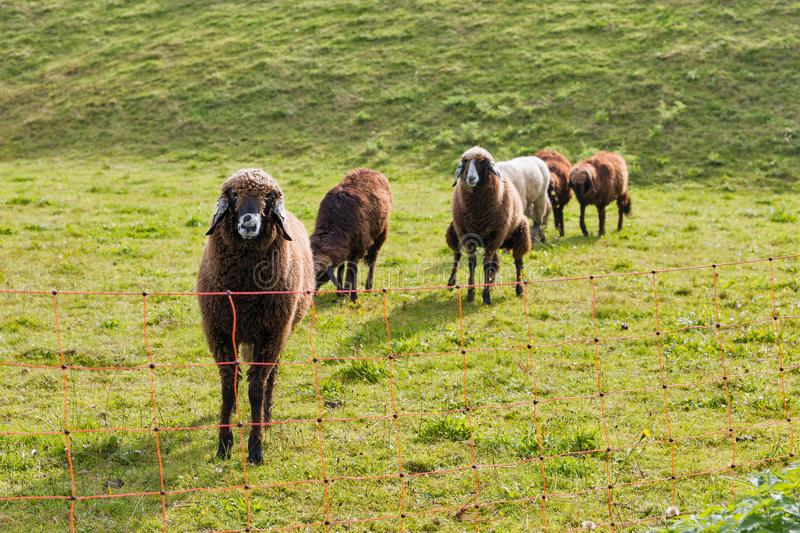sheep: (203, 184, 307, 466), (306, 176, 396, 330), (454, 158, 521, 306), (570, 154, 640, 248), (514, 146, 578, 232)
